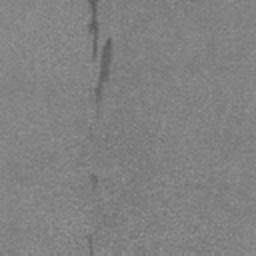Red iron sheet: (95, 38, 112, 103), (88, 0, 99, 58), (86, 234, 94, 256), (90, 174, 98, 189)
